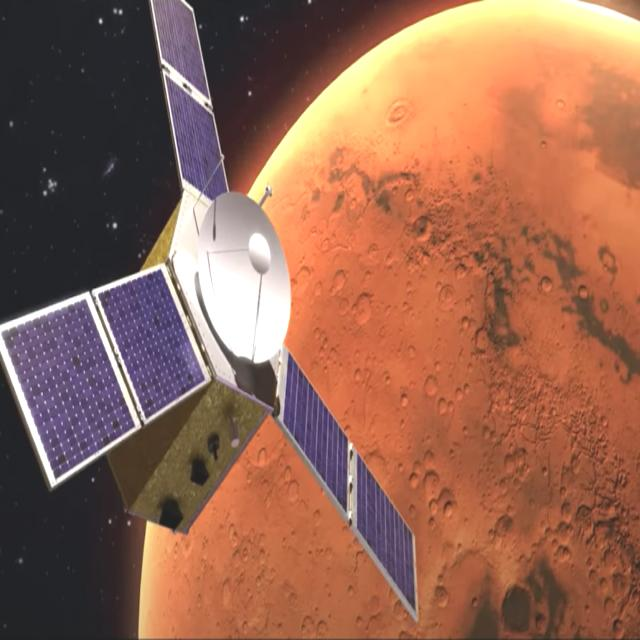medium_debris: (0, 4, 421, 618)
